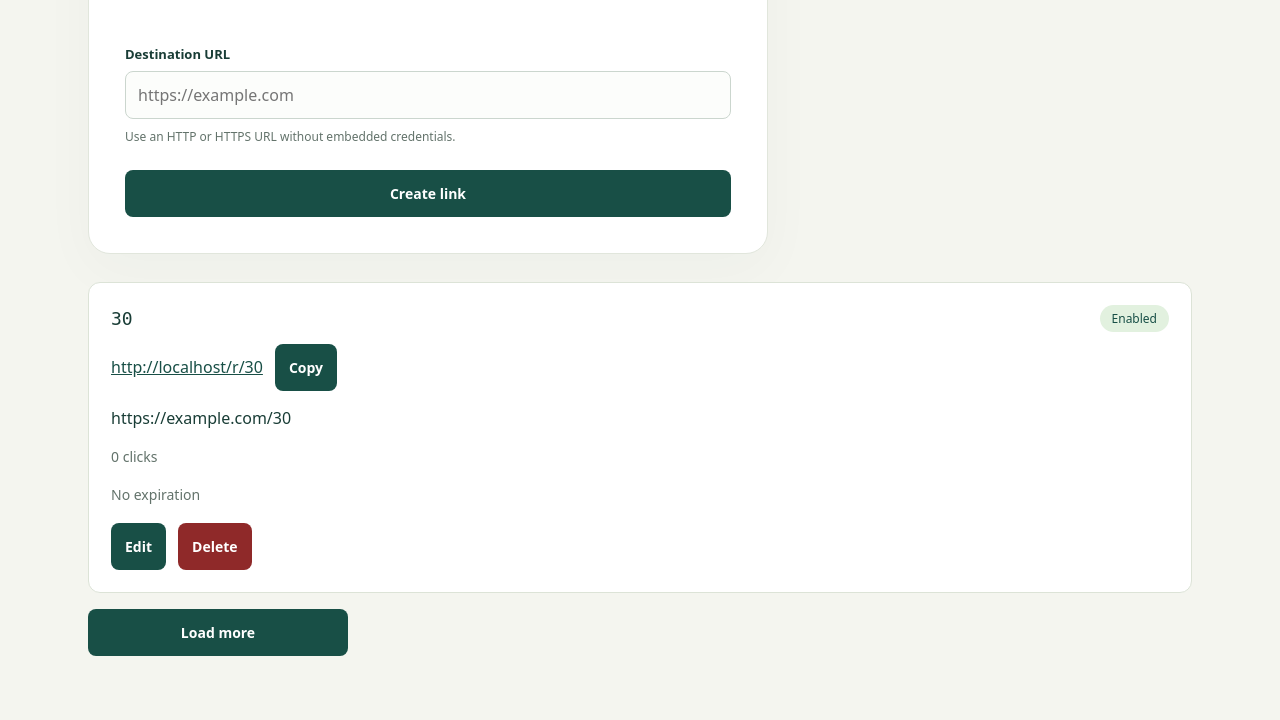
appends pages, displays disabled/expiration fields, and stops at the final page
(page scrolled)
Check: the text "https://example.com/30" is shown, box [111,407,291,429]
Click the button "Load more": (218, 632) [88,609,348,656]
(page scrolled)
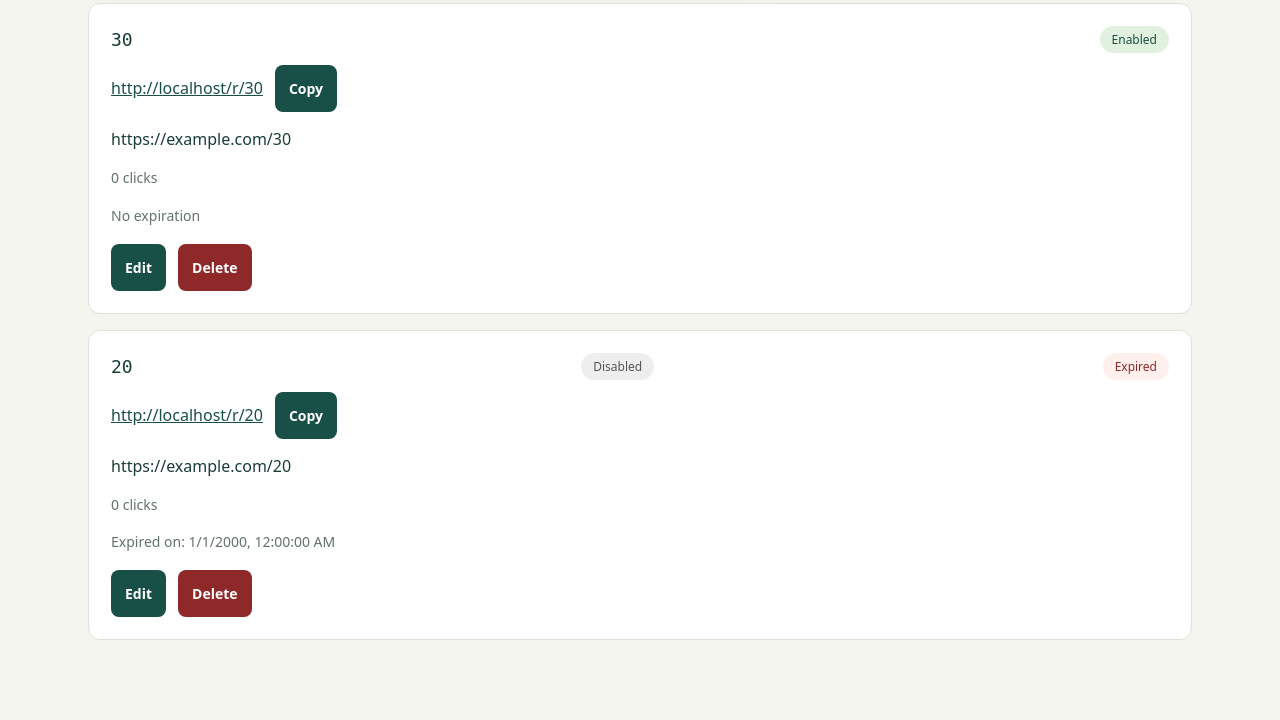
Check: the text "https://example.com/20" is shown, box [111,455,291,477]
Check: the number of list items is 2, box [88,3,1192,314]; [88,330,1192,640]
Check: the text "Disabled" is shown, box [581,353,654,380]
